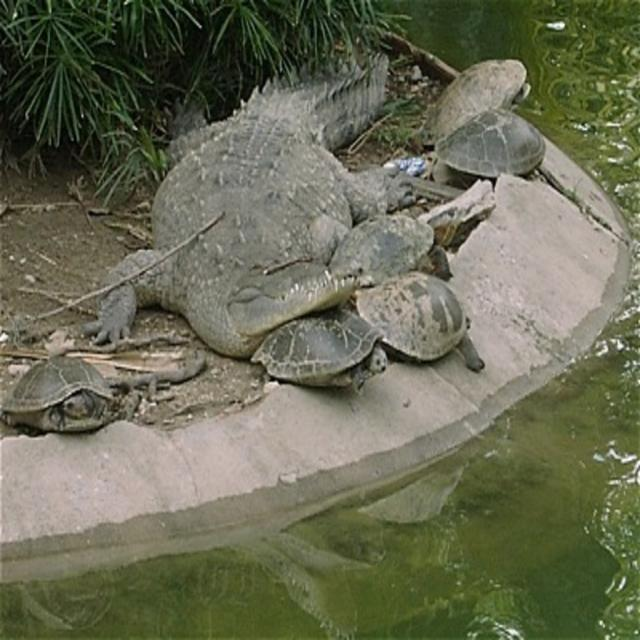crocodile: (55, 25, 454, 399)
